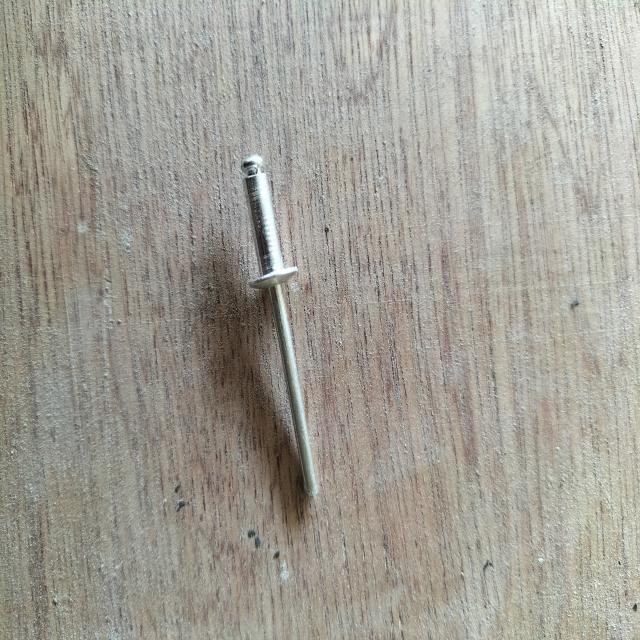rivet: (241, 153, 320, 498)
